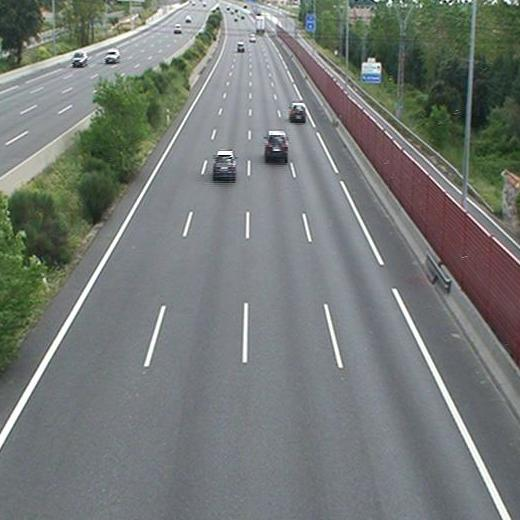car: (213, 150, 237, 177), (264, 132, 289, 157), (290, 104, 306, 120), (236, 42, 245, 51)
